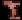helmet: (1, 0, 21, 20)
